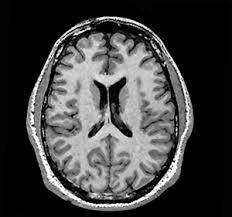Normal_Brain: (22, 4, 201, 217)
